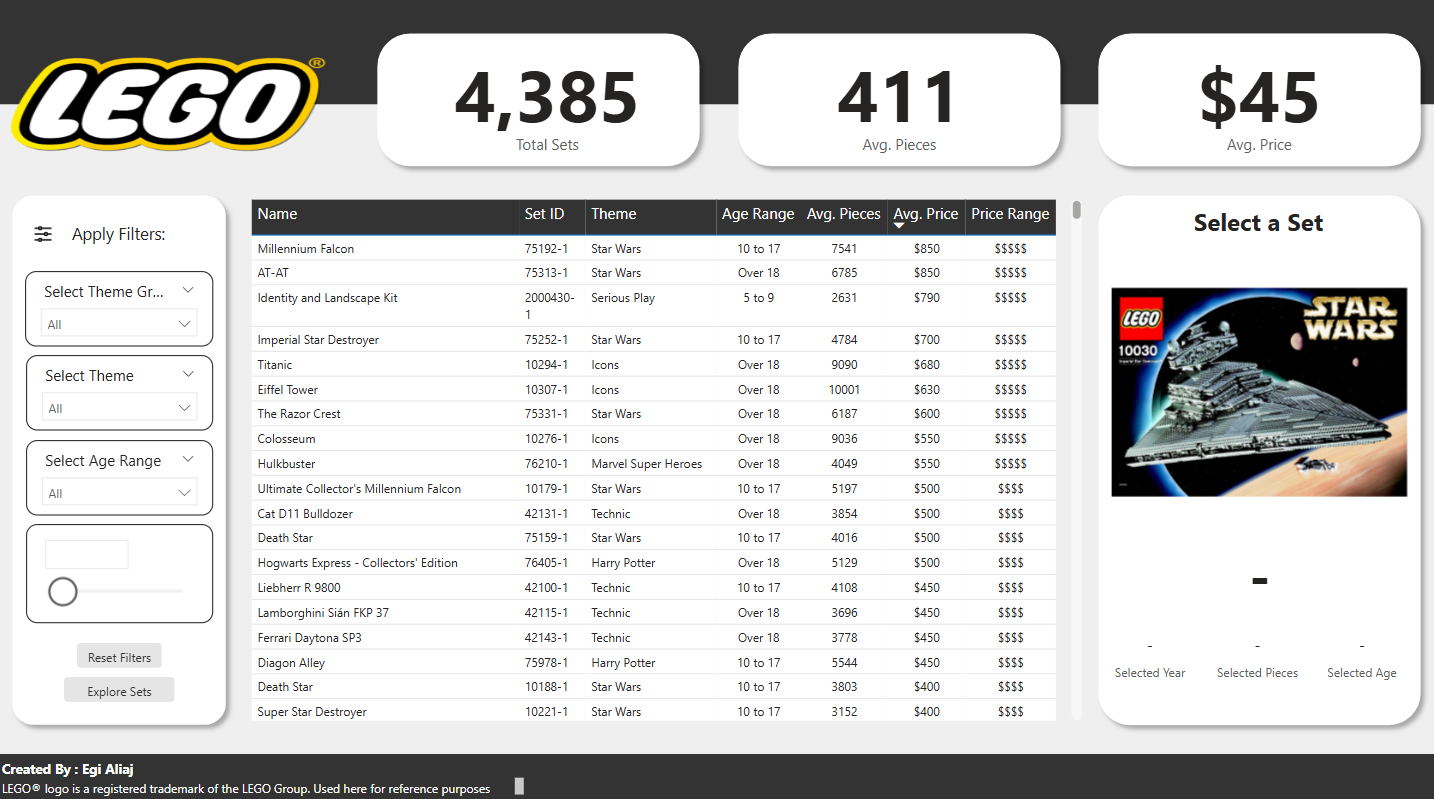

What the dashboard file says about the page in this screenshot:
{"tool":"powerbi","page":{"name":"LEGO Set Explorer","canvas":[1280,720],"ordinal":0},"visuals":[{"type":"shape","box":[0,672,1280,48],"z":0},{"type":"shape","box":[5.6,167.6,207.5,487.7],"z":1000},{"type":"shape","box":[0,0,1280,96],"z":2000},{"type":"image","box":[5.3,0,295.3,191.5],"z":3000},{"type":"textbox","box":[0,687.6,472.5,32.4],"z":4000},{"type":"shape","box":[329.1,23.6,304,136],"z":5000,"group":"g4"},{"type":"tableEx","fields":{"Values":["lego_sets.name","lego_sets.set_id","lego_sets.theme","lego_sets.Age Range","Measures Table.Avg. Pieces","Measures Table.Avg. Price","lego_sets.Price Range"]},"box":[220.8,175.6,747.5,471.7],"z":5000},{"type":"card","fields":{"Values":["Measures Table.Total Sets"]},"box":[345.1,31.6,288,120],"z":6000,"group":"g4"},{"type":"group","id":"g1","title":"Group 1","box":[968.6,168,304.5,488.2],"z":6000},{"type":"shape","box":[649.3,23.6,304,136],"z":7000,"group":"g3"},{"type":"group","id":"g2","title":"Group 2","box":[968.6,23.6,304.5,136.5],"z":7000},{"type":"group","id":"g3","title":"Group 3","box":[649.3,23.6,304.5,136.5],"z":8000},{"type":"shape","box":[968.6,23.6,304,136],"z":8000,"group":"g2"},{"type":"group","id":"g4","title":"Group 4","box":[329.1,23.6,303.5,136.5],"z":9000},{"type":"card","fields":{"Values":["Measures Table.Avg. Pieces"]},"box":[657.3,31.6,288,120],"z":9000,"group":"g3"},{"type":"card","fields":{"Values":["Measures Table.Avg. Price"]},"box":[976.6,31.6,288,120],"z":10000,"group":"g2"},{"type":"slicer","fields":{"Values":["Max Price 2.Max Price"]},"box":[26.6,468.2,165.8,87.8],"z":10000},{"type":"actionButton","box":[71.8,573.7,75.4,22.2],"z":11000},{"type":"slicer","fields":{"Values":["lego_sets.themeGroup"]},"box":[25.5,244.2,166.7,67.4],"z":12000},{"type":"slicer","fields":{"Values":["lego_sets.theme"]},"box":[26.6,318.3,166,67.4],"z":13000},{"type":"slicer","fields":{"Values":["lego_sets.Age Range"]},"box":[26.6,393.7,165.8,67.4],"z":14000},{"type":"actionButton","box":[27.5,196.5,30.5,28.5],"z":15000},{"type":"textbox","box":[55,195.5,107.1,31.4],"z":16000},{"type":"shape","box":[968.6,168,304,488],"z":17000,"group":"g1"},{"type":"textbox","box":[0,670.9,141.5,32.4],"z":17000},{"type":"actionButton","box":[60.3,603.8,98.4,22.2],"z":18000},{"type":"card","fields":{"Values":["Measures Table.Selected Set"]},"box":[983.7,179.6,272,45.3],"z":19000,"group":"g1"},{"type":"simpleImageEBC4593F96F1425FB3D84C5BF02B5075","fields":{"imageURL":["lego_sets.imageURL"]},"box":[984.6,224.9,272,254.2],"z":20000,"group":"g1"},{"type":"card","fields":{"Values":["Measures Table.Selected Price"]},"box":[977.5,478.2,287.1,65.8],"z":21000,"group":"g1"},{"type":"card","fields":{"Values":["Measures Table.Selected Year"]},"box":[984.9,556,78,59.4],"z":22000,"group":"g1"},{"type":"card","fields":{"Values":["Measures Table.Selected Pieces"]},"box":[1071.8,556,94.9,59.4],"z":23000,"group":"g1"},{"type":"card","fields":{"Values":["Measures Table.Selected Age"]},"box":[1167.5,556,88.7,59.4],"z":24000,"group":"g1"}]}

Visuals, with their boxes in screenshot pixels (x1, y1, x2, y2), scaled from the page's 1280x720 canvas onto the 1434x799 screenshot:
shape: Rect(0, 746, 1433, 798)
shape: Rect(6, 186, 239, 727)
shape: Rect(0, 0, 1433, 107)
image: Rect(6, 0, 337, 213)
textbox: Rect(0, 763, 529, 798)
shape: Rect(369, 26, 709, 177)
tableEx - lego_sets.name x lego_sets.set_id: Rect(247, 195, 1085, 718)
card - Measures Table.Total Sets: Rect(387, 35, 709, 168)
"Group 1" group: Rect(1085, 186, 1426, 728)
shape: Rect(727, 26, 1068, 177)
"Group 2" group: Rect(1085, 26, 1426, 178)
"Group 3" group: Rect(727, 26, 1069, 178)
shape: Rect(1085, 26, 1426, 177)
"Group 4" group: Rect(369, 26, 709, 178)
card - Measures Table.Avg. Pieces: Rect(736, 35, 1059, 168)
card - Measures Table.Avg. Price: Rect(1094, 35, 1417, 168)
slicer - Max Price 2.Max Price: Rect(30, 520, 216, 617)
actionButton: Rect(80, 637, 165, 661)
slicer - lego_sets.themeGroup: Rect(29, 271, 215, 346)
slicer - lego_sets.theme: Rect(30, 353, 216, 428)
slicer - lego_sets.Age Range: Rect(30, 437, 216, 512)
actionButton: Rect(31, 218, 65, 250)
textbox: Rect(62, 217, 182, 252)
shape: Rect(1085, 186, 1426, 728)
textbox: Rect(0, 745, 159, 780)
actionButton: Rect(68, 670, 178, 695)
card - Measures Table.Selected Set: Rect(1102, 199, 1407, 250)
simpleImageEBC4593F96F1425FB3D84C5BF02B5075 - lego_sets.imageURL: Rect(1103, 250, 1408, 532)
card - Measures Table.Selected Price: Rect(1095, 531, 1417, 604)
card - Measures Table.Selected Year: Rect(1103, 617, 1191, 683)
card - Measures Table.Selected Pieces: Rect(1201, 617, 1307, 683)
card - Measures Table.Selected Age: Rect(1308, 617, 1407, 683)
